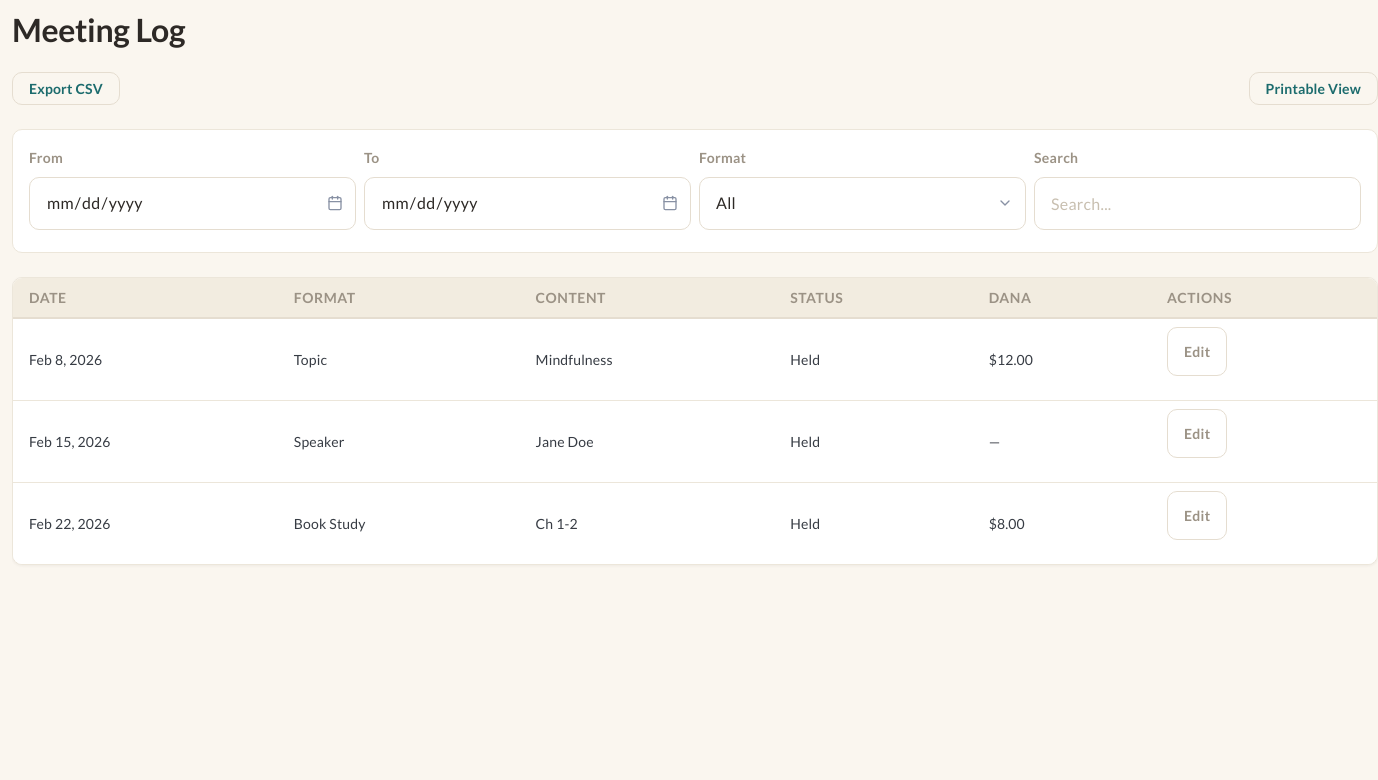
Log › filtering › shows no matching meetings message
expect the text "Mindfulness" is shown: met, box [520,319,774,401]
In the date field labelled "From": (192, 203) [29,177,356,230], type "2027-01-01"
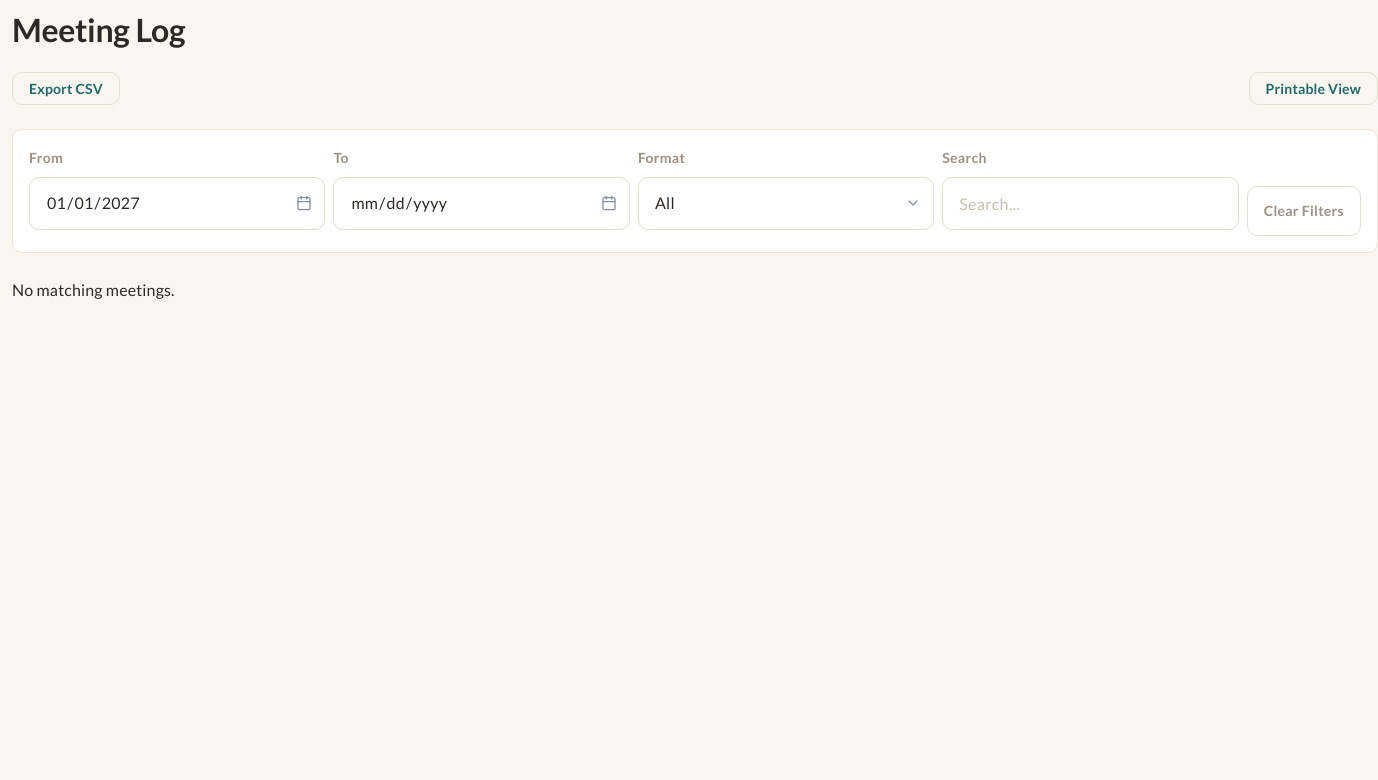
expect the text "No matching meetings." is shown: met, box [12,280,175,299]
